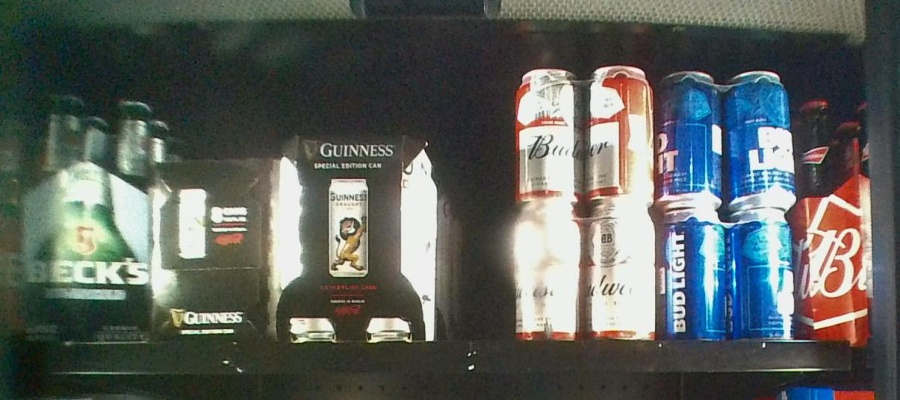bottle: (514, 67, 656, 340), (660, 71, 797, 340), (16, 91, 152, 342), (276, 132, 434, 348), (150, 159, 282, 344)
